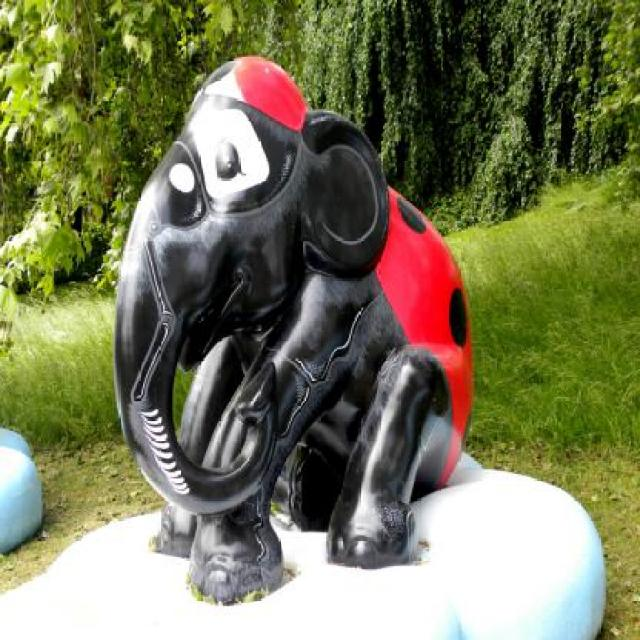Elephant: (92, 69, 456, 606)
